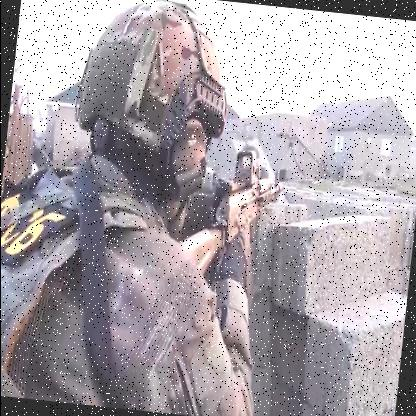rifle: (164, 135, 290, 309)
